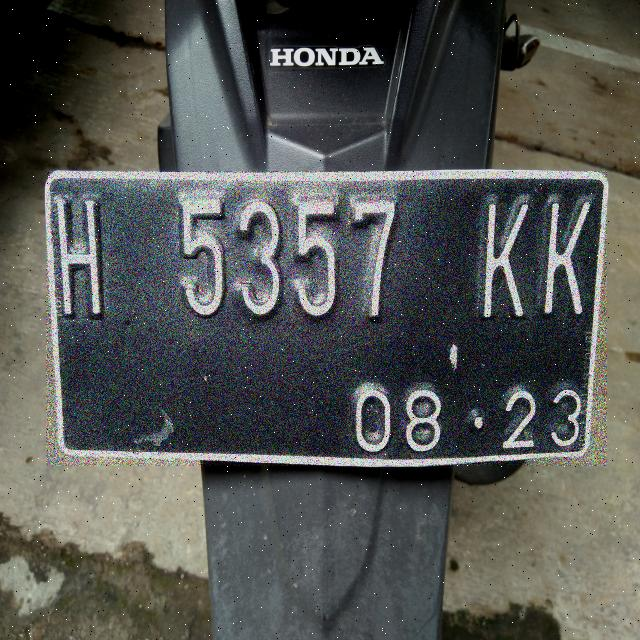plate: (46, 171, 606, 465)
